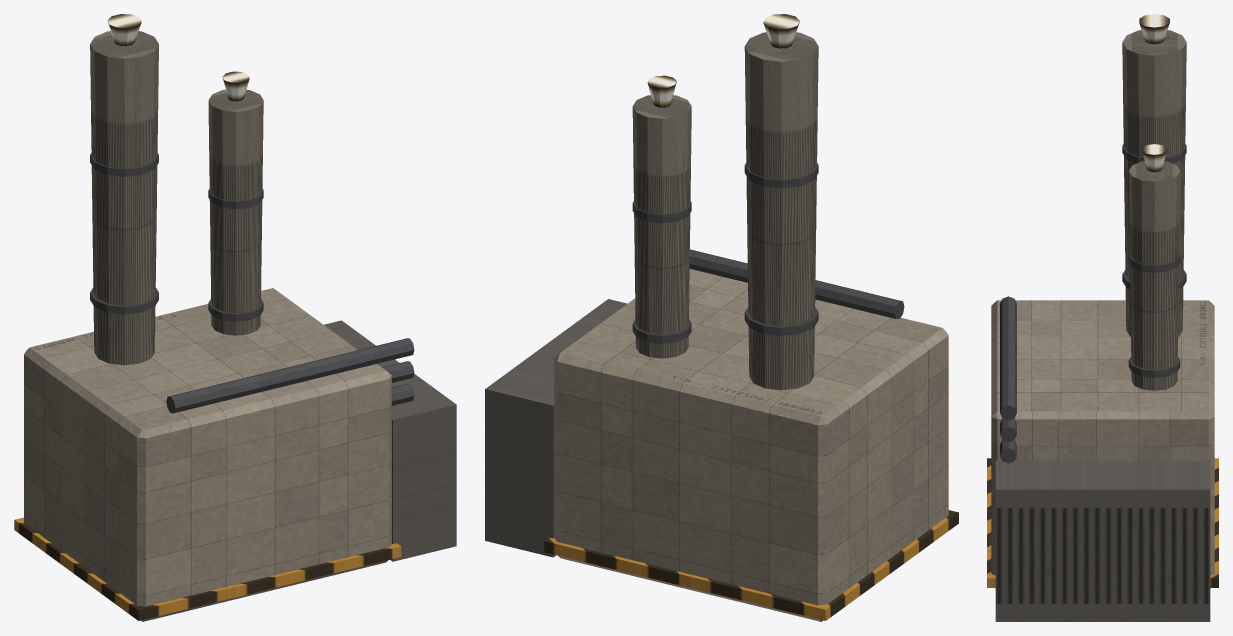
File: refinery_stack.obj
3 renders of one model, left to right at view 1: azimuth 30°, elevation 25°; view 2: azimuth 150°, elevation 25°; view 3: azimuth 270°, elevation 25°, orthographic. The views are drawn at different scales.
Visible parts, largest first — view 1: refinery_stack; view 2: refinery_stack; view 3: refinery_stack.
Part boxes in pixels (<box>): refinery_stack: <box>14,14,456,621</box>; refinery_stack: <box>485,14,958,621</box>; refinery_stack: <box>987,14,1218,621</box>.
Size of the model in its own units: 8.1 by 12.55 by 5.4.
Materials: 1 (1 with a texture image).
